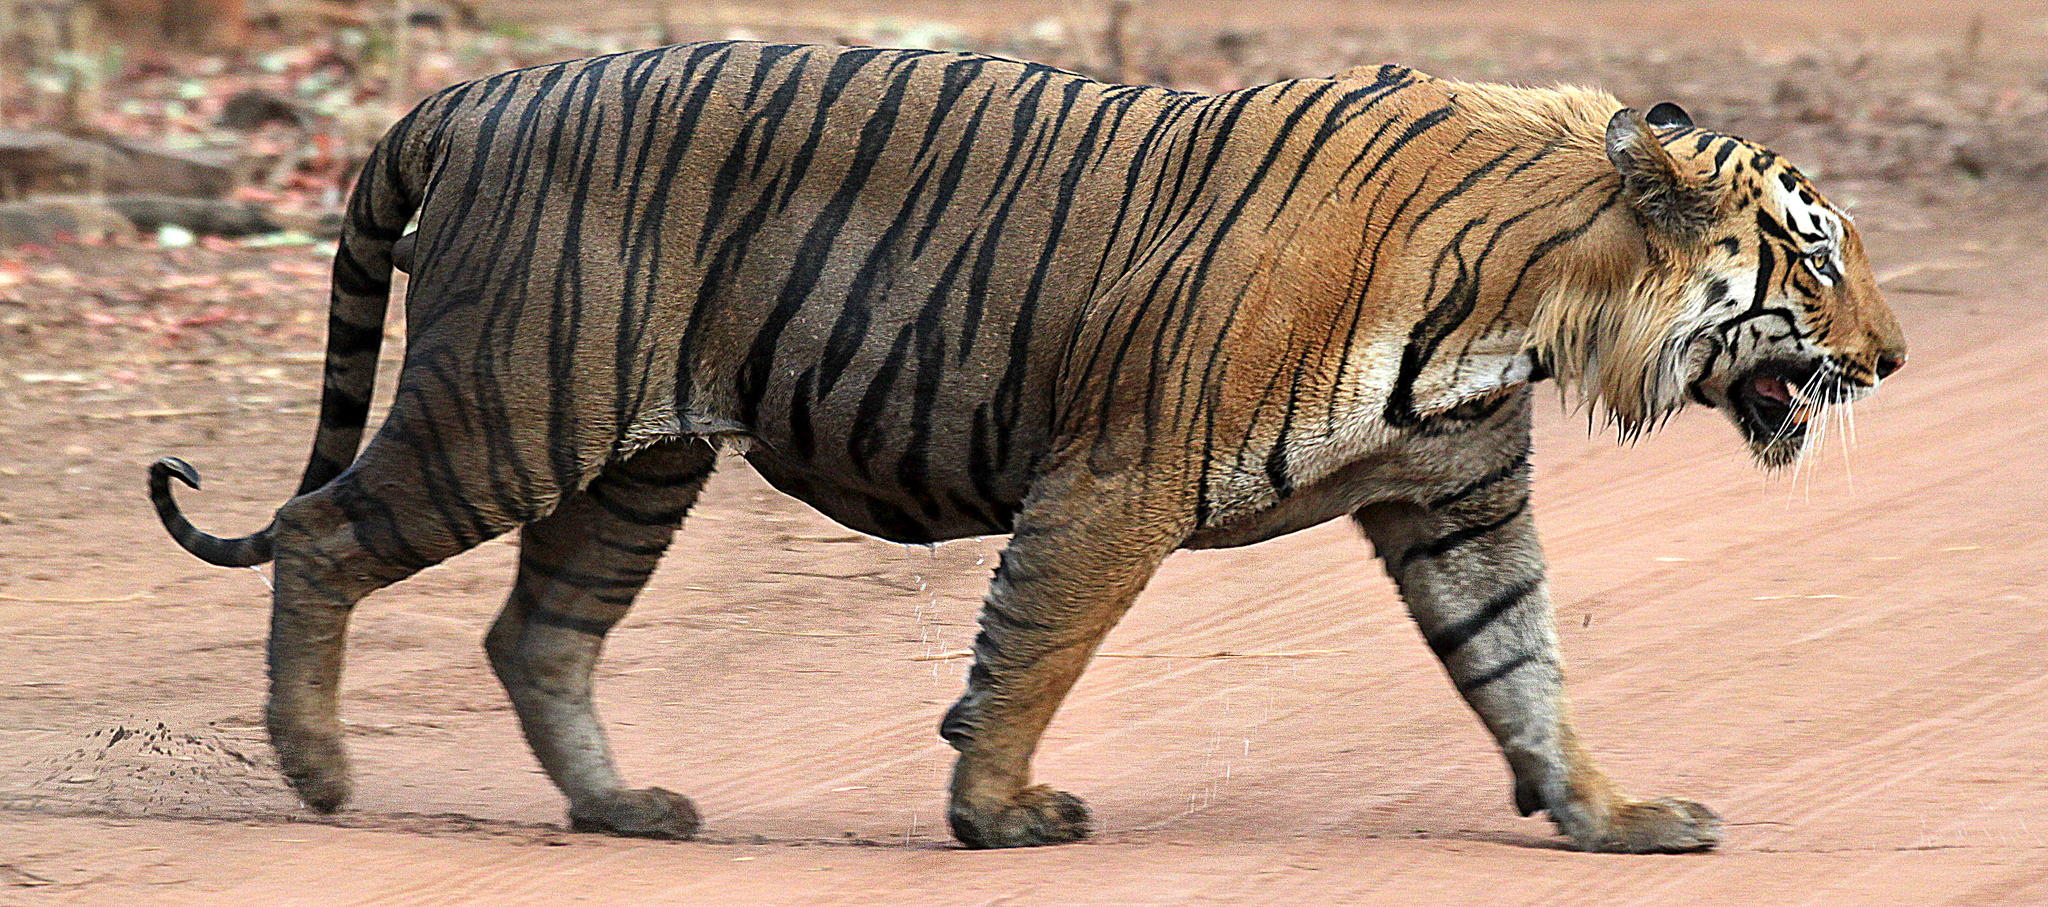tiger: (259, 34, 1957, 907)
